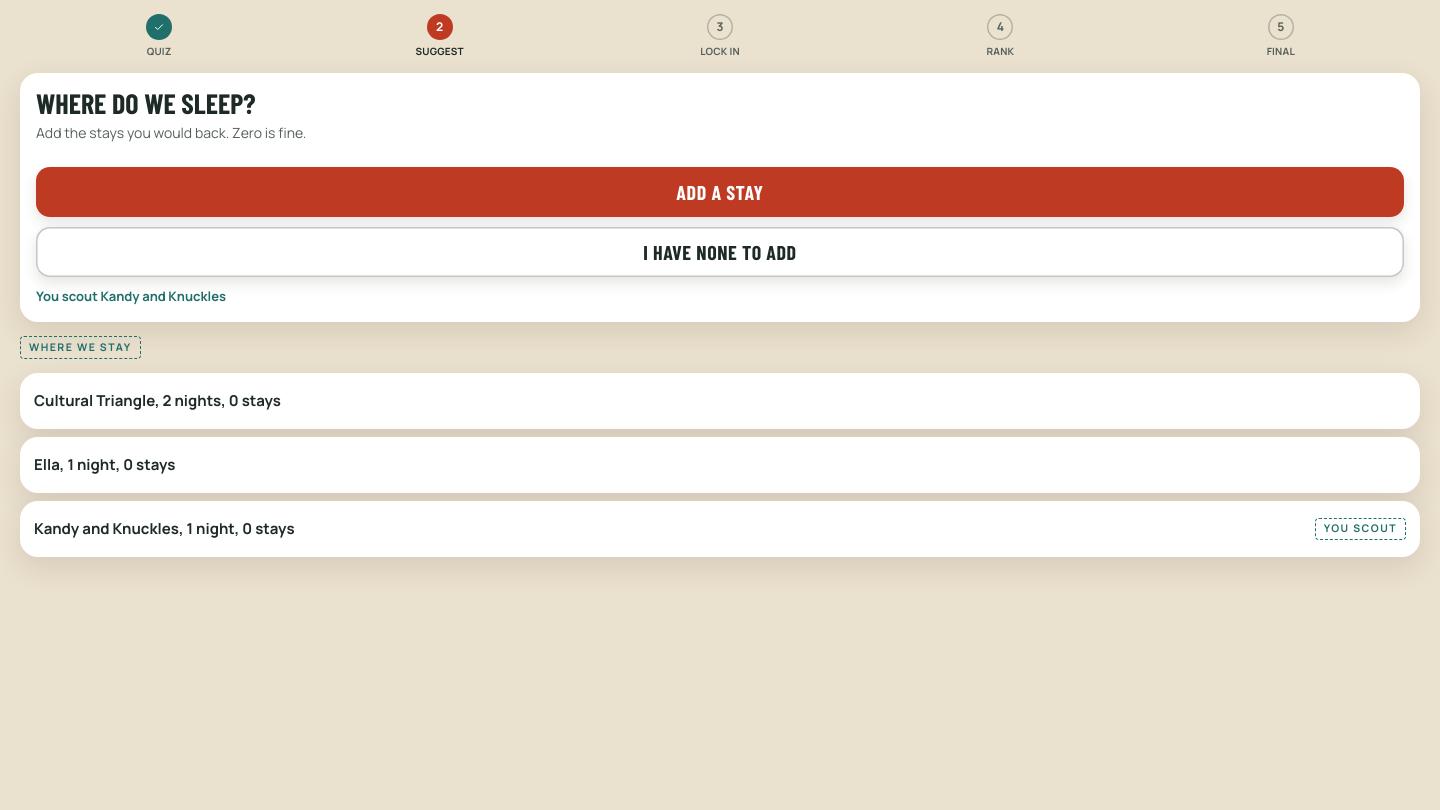
Test: the board and the add sheet › a stay with a price in the guide arrives priced
Expected: the list named "Stays steps" is shown, [146,14,1295,58]
Click the button "Ella, 1 night, 0 stays". click: (105, 464)
box: [20,437,1420,493]
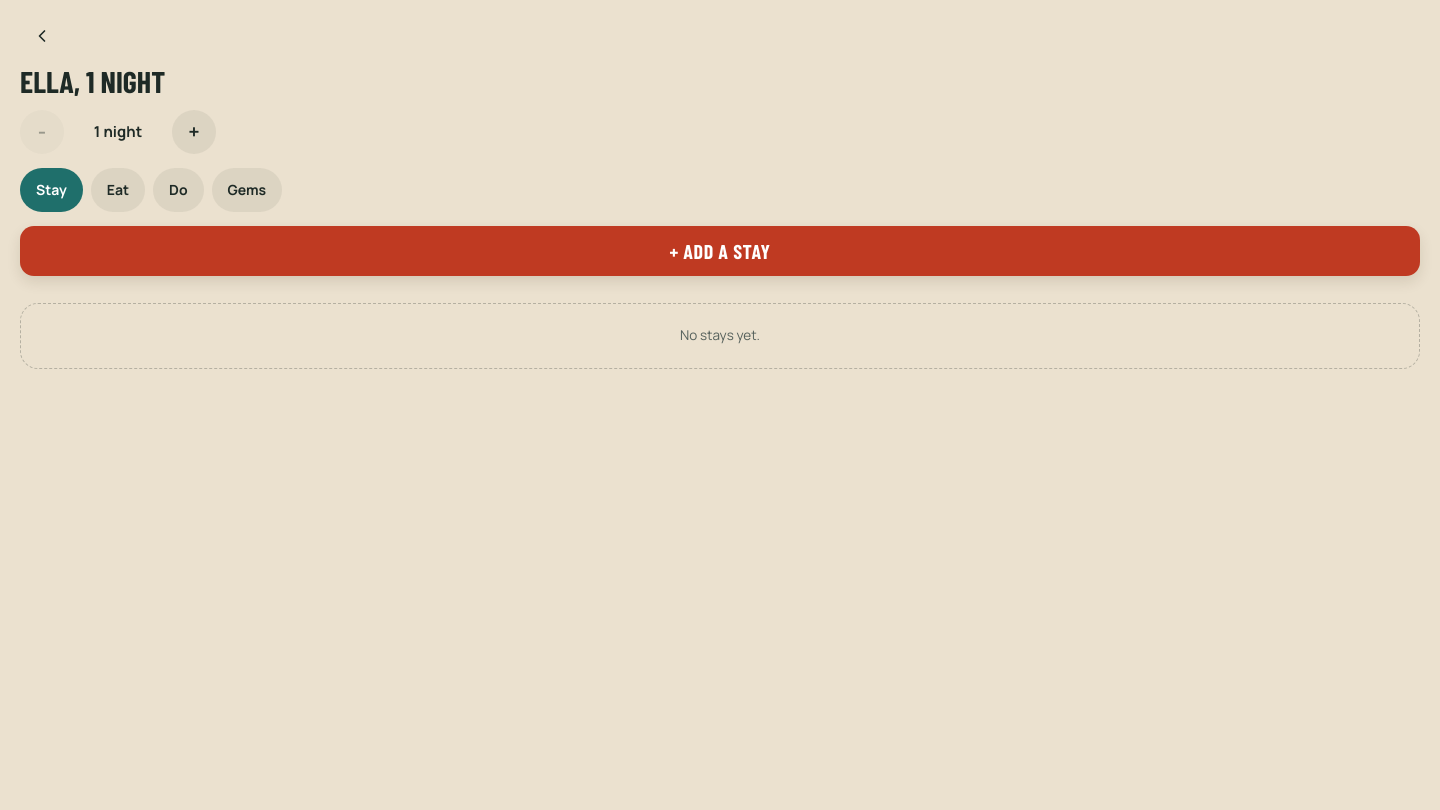
Click the button "+ Add a stay". click: (720, 251)
box: [20,226,1420,276]
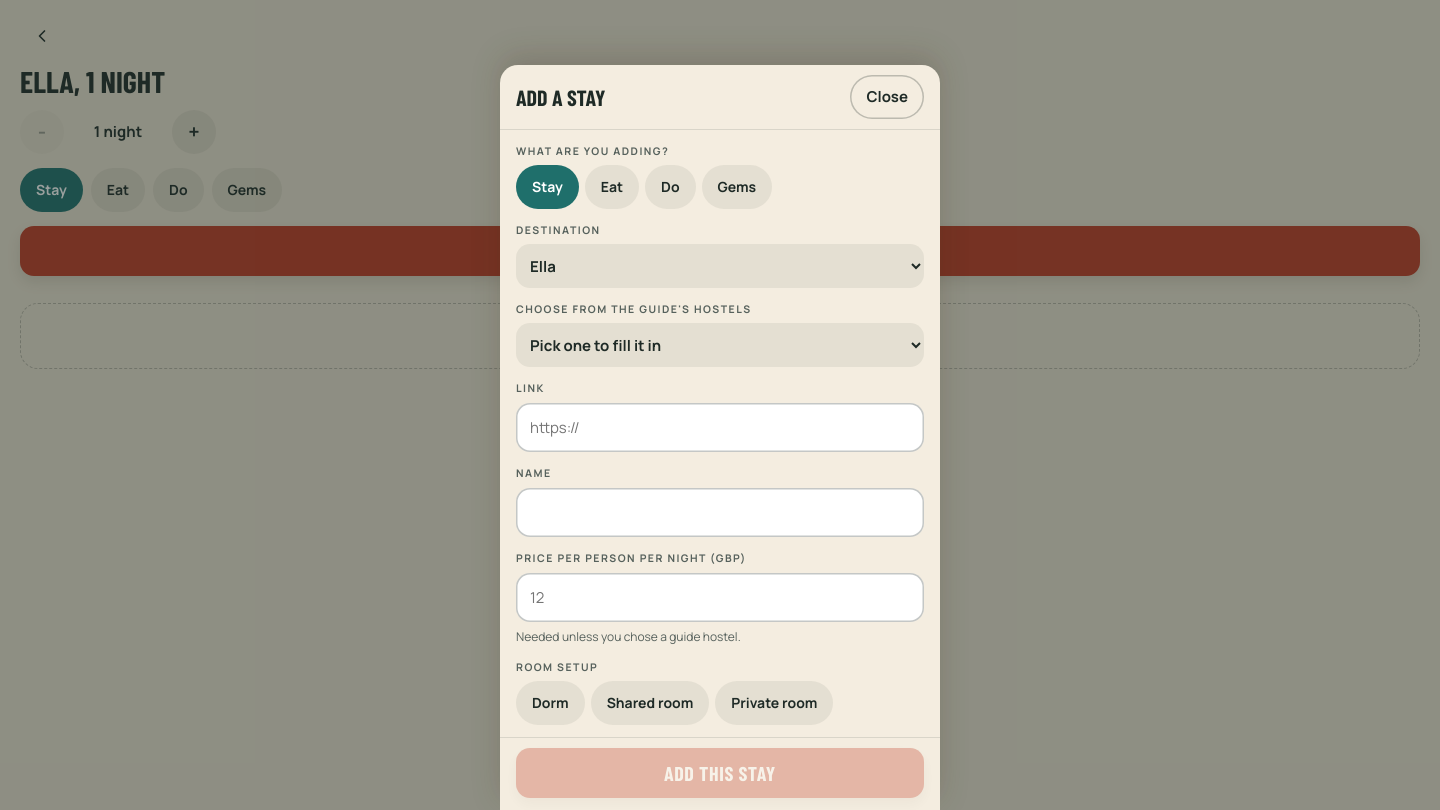
Select "Ella Escapade Hostel (by Nomadic)" in the dropdown labelled "Choose from the guide's hostels". click: (720, 346)
box: [516,324,924,368]
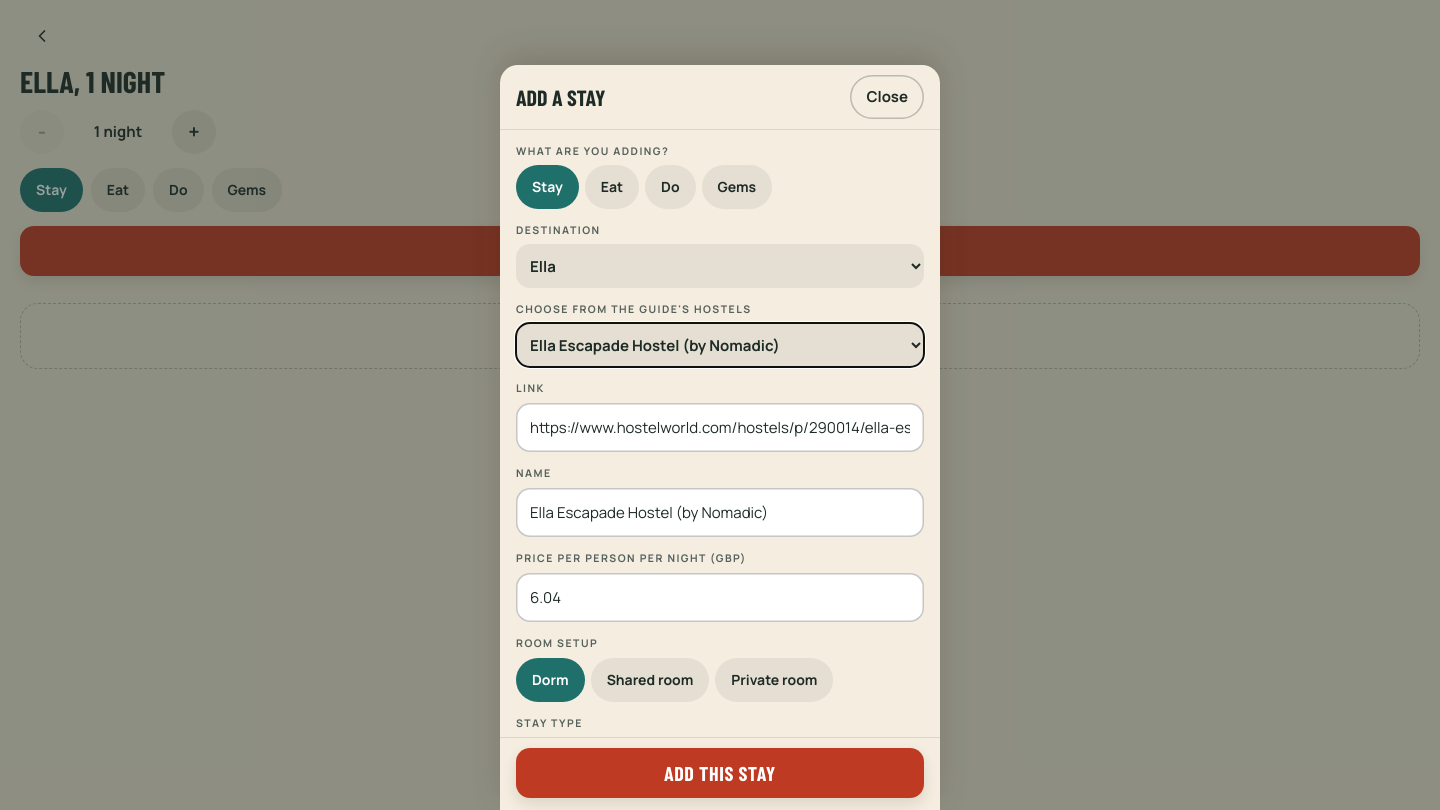
Expected: the field labelled "Price per person per night (GBP)" holds "6.04", [516,573,924,622]
